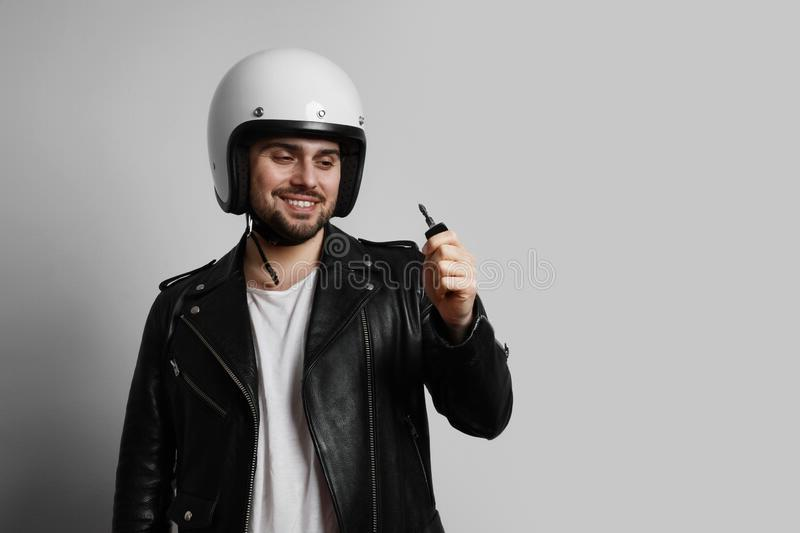Helmet: (203, 48, 365, 216)
